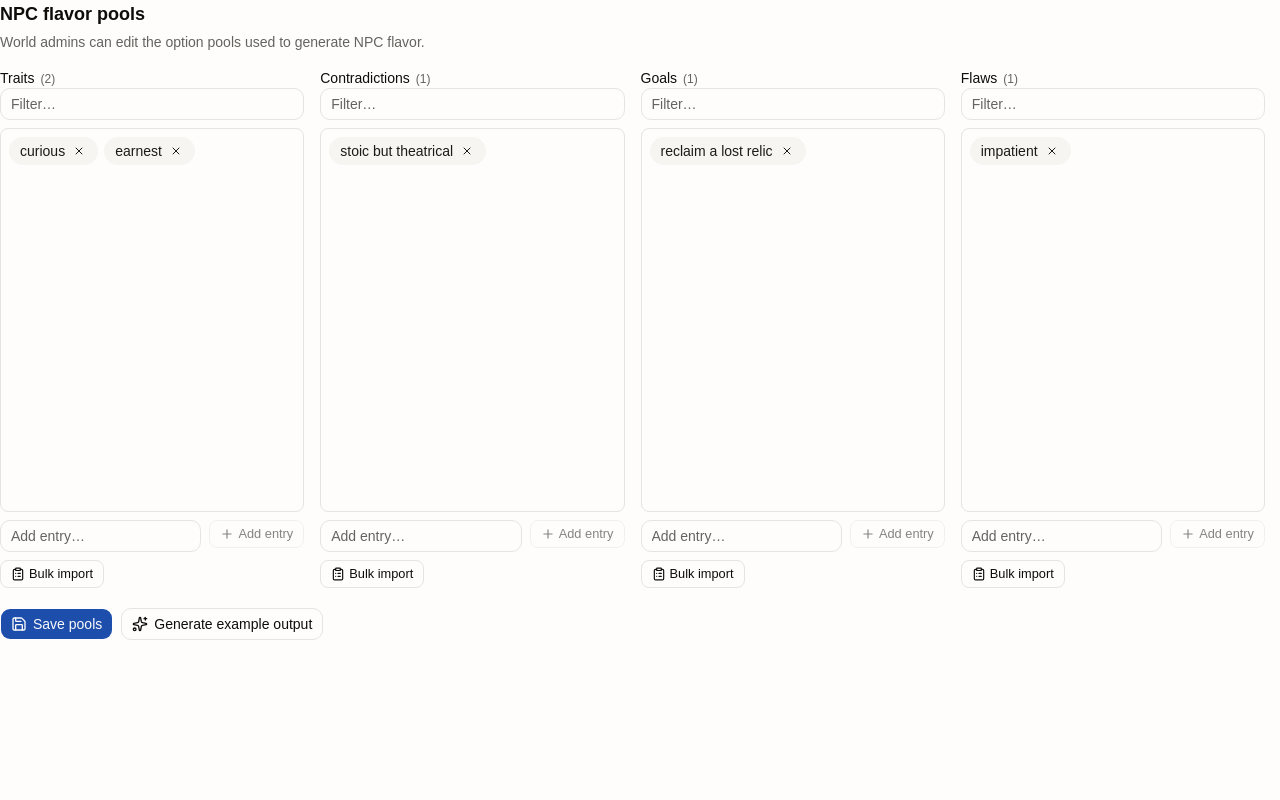
Test: WorldNpcFlavorConfigPanel › clicking generate example output renders the canonical flavor line with two traits
The width and height of the screenshot is (1280, 800).
Check: the heading "NPC flavor pools" is shown, box [0, 4, 145, 24]
What coordinates should you click on to do the following:
click the button "Generate example output"
I would click on:
 (222, 624)
Its box is [121, 608, 323, 640].
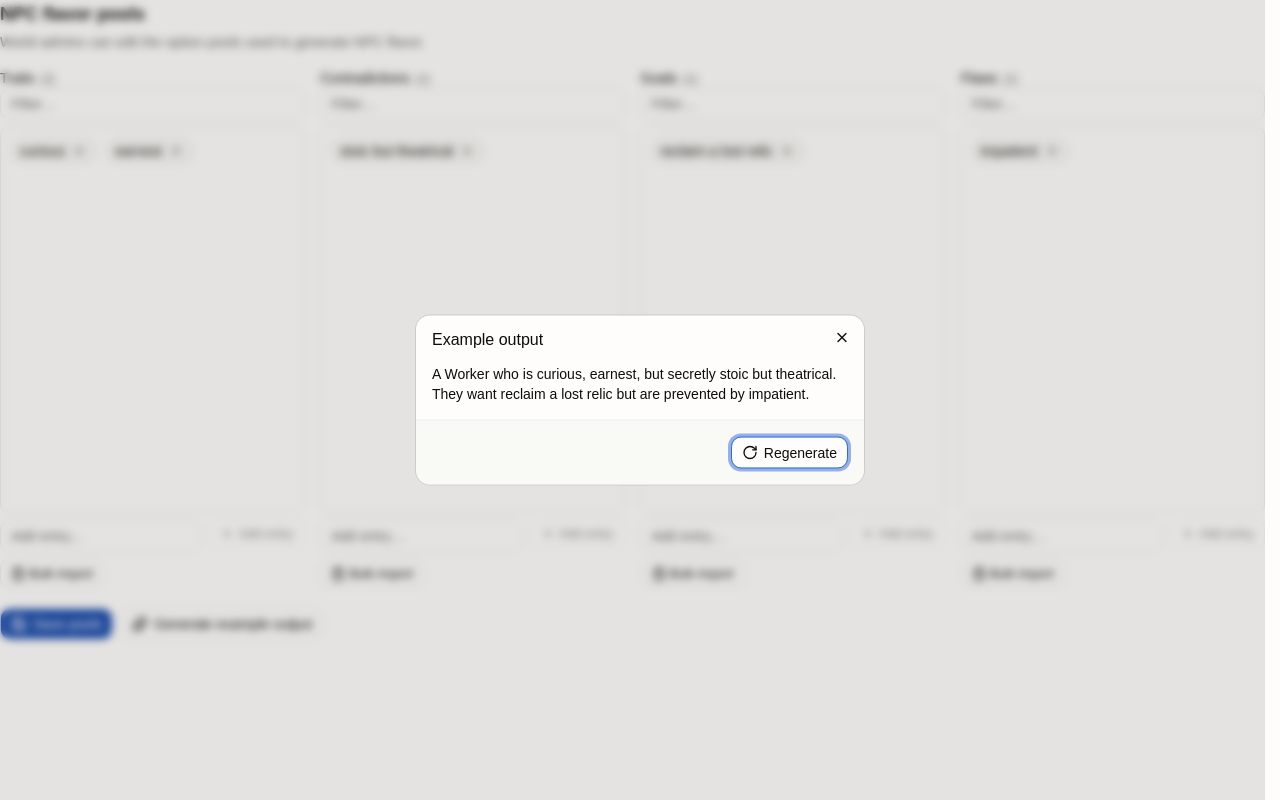
Check: the text "curious" is shown, box [432, 366, 836, 402]
Check: the text "earnest" is shown, box [432, 366, 836, 402]
